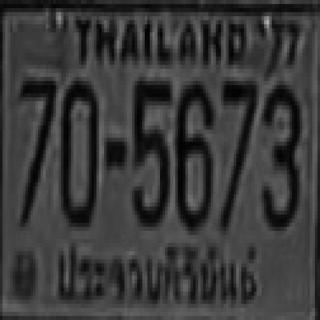N00: (58, 77, 96, 223)
N03: (259, 81, 300, 227)
N05: (129, 77, 170, 223)
N06: (174, 79, 212, 225)
N07: (16, 75, 54, 225), (218, 77, 256, 227), (221, 77, 256, 174)
P50: (51, 237, 265, 314)
